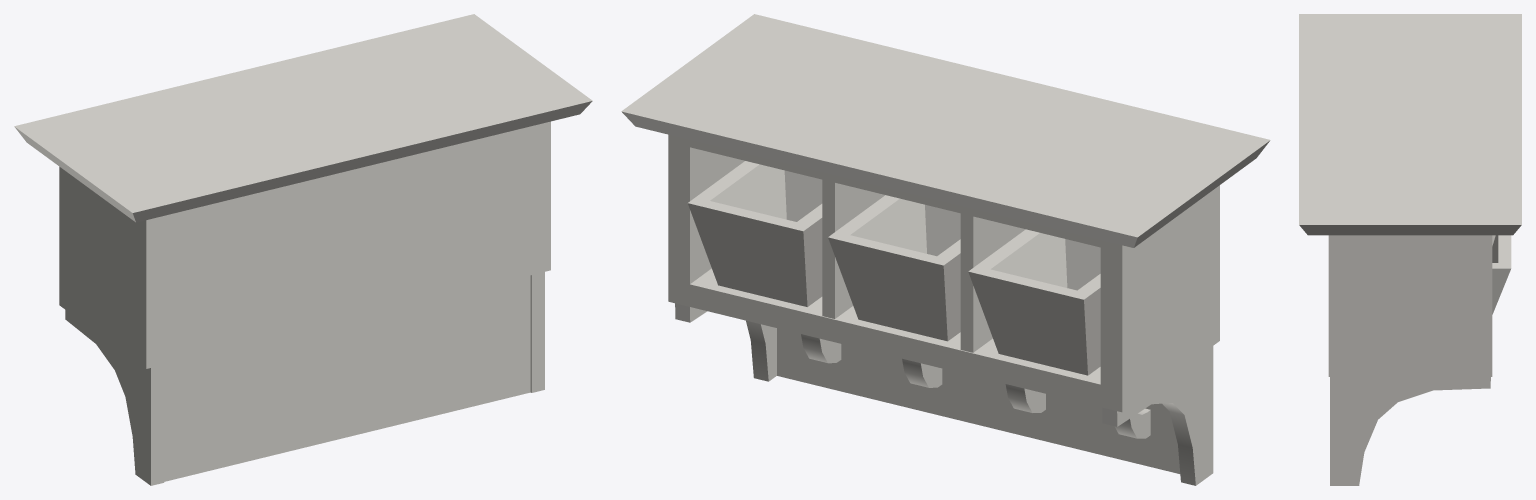
File: wall-3.glb
3 renders of one model, left to right at view 1: azimuth 30°, elevation 25°; view 2: azimuth 150°, elevation 25°; view 3: azimuth 270°, elevation 25°, orthographic. The views are drawn at different scales.
Visible parts, largest first — view 1: Standard.12; view 2: Standard.12, Standard.13; view 3: Standard.12, Standard.13.
Boxes of the visible parts, left/top/right/bottom form: Standard.12: left=14, top=14, right=592, bottom=485; Standard.12: left=621, top=14, right=1270, bottom=485; Standard.13: left=687, top=161, right=1100, bottom=375; Standard.12: left=1299, top=14, right=1521, bottom=485; Standard.13: left=1492, top=235, right=1511, bottom=314.
Size of the model in its own units: 0.0303 by 0.0185 by 0.0135.
2 materials, 2 textured.
